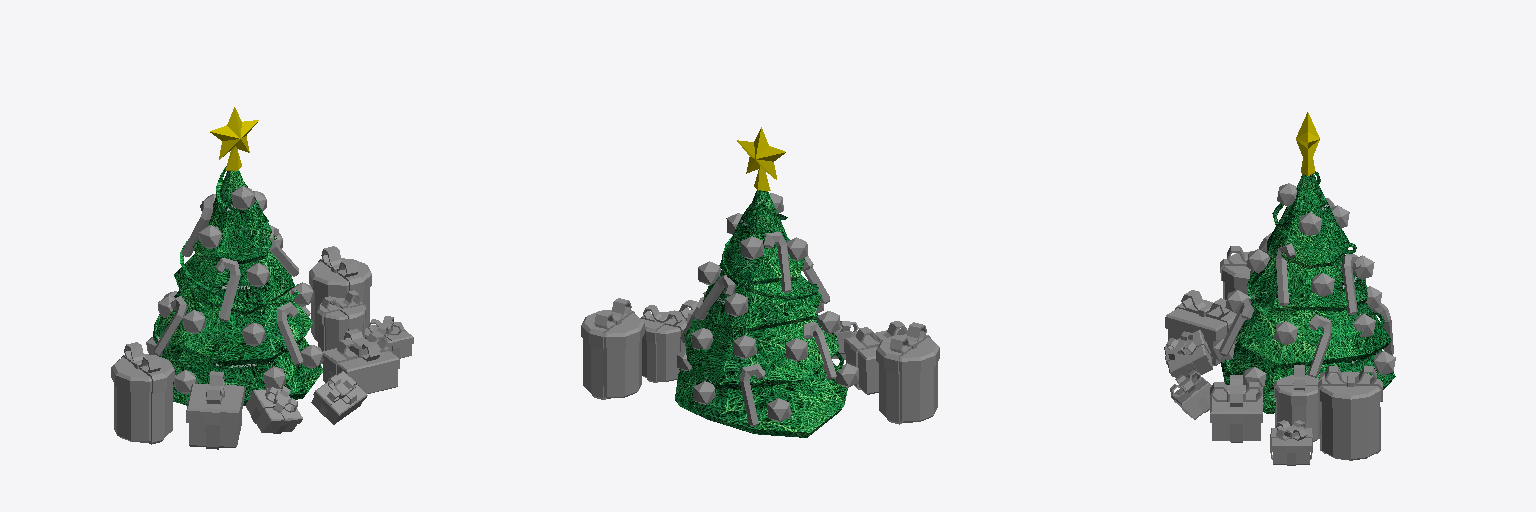
The picture shows the model from 3 angles: view 1: azimuth 30°, elevation 25°; view 2: azimuth 150°, elevation 25°; view 3: azimuth 270°, elevation 25°; orthographic projection.
Visible parts, largest first — view 1: Christmas_Tree, Christmas_Present_01, Christmas_Present_009, Christmas_Present_04, Christmas_Present_008, Christmas_Present_02, Christmas_Present_07, Christmas_Present_05, estrella, Christmas_Present_06, Christmas_Tree_Candy002, Christmas_Tree_Candy (+2 smaller); view 2: Christmas_Tree, Christmas_Present_008, Christmas_Present_01, Christmas_Present_02, Christmas_Present_009, estrella, Christmas_Tree_Candy007, Christmas_Tree_Candy004, Christmas_Tree_Candy003, Christmas_Tree_Candy005; view 3: Christmas_Tree, Christmas_Present_008, Christmas_Present_04, Christmas_Present_009, Christmas_Present_02, Christmas_Present_07, Christmas_Present_06, Christmas_Present_05, Christmas_Present_01, estrella, Christmas_Tree_Candy006, Christmas_Tree_Candy005 (+2 smaller).
Boxes of the visible parts, x1,y1,x2,y2 form: Christmas_Tree: [153, 166, 322, 405]; Christmas_Present_01: [111, 342, 174, 444]; Christmas_Present_009: [186, 371, 244, 449]; Christmas_Present_04: [322, 329, 399, 393]; Christmas_Present_008: [309, 246, 371, 341]; Christmas_Present_02: [317, 290, 366, 363]; Christmas_Present_07: [245, 386, 302, 433]; Christmas_Present_05: [311, 371, 367, 424]; estrella: [210, 107, 258, 170]; Christmas_Present_06: [365, 316, 413, 358]; Christmas_Tree_Candy002: [215, 258, 240, 321]; Christmas_Tree_Candy: [277, 302, 303, 365]; Christmas_Tree: [675, 190, 847, 437]; Christmas_Present_008: [581, 298, 644, 399]; Christmas_Present_01: [876, 322, 939, 424]; Christmas_Present_02: [640, 305, 686, 382]; Christmas_Present_009: [844, 321, 907, 394]; estrella: [737, 127, 785, 191]; Christmas_Tree_Candy007: [739, 364, 765, 426]; Christmas_Tree_Candy004: [764, 232, 791, 292]; Christmas_Tree_Candy003: [803, 321, 836, 379]; Christmas_Tree_Candy005: [695, 275, 735, 319]; Christmas_Tree: [1221, 171, 1395, 413]; Christmas_Present_008: [1318, 366, 1382, 460]; Christmas_Present_04: [1210, 375, 1262, 442]; Christmas_Present_009: [1165, 290, 1236, 365]; Christmas_Present_02: [1274, 365, 1320, 441]; Christmas_Present_07: [1164, 330, 1212, 378]; Christmas_Present_06: [1270, 420, 1312, 465]; Christmas_Present_05: [1170, 370, 1211, 419]; Christmas_Present_01: [1220, 246, 1255, 302]; estrella: [1296, 112, 1319, 176]; Christmas_Tree_Candy006: [1307, 314, 1331, 377]; Christmas_Tree_Candy005: [1342, 254, 1360, 314].
Size of the model in its own units: 416 by 364 by 271.
3 materials, 2 textured.